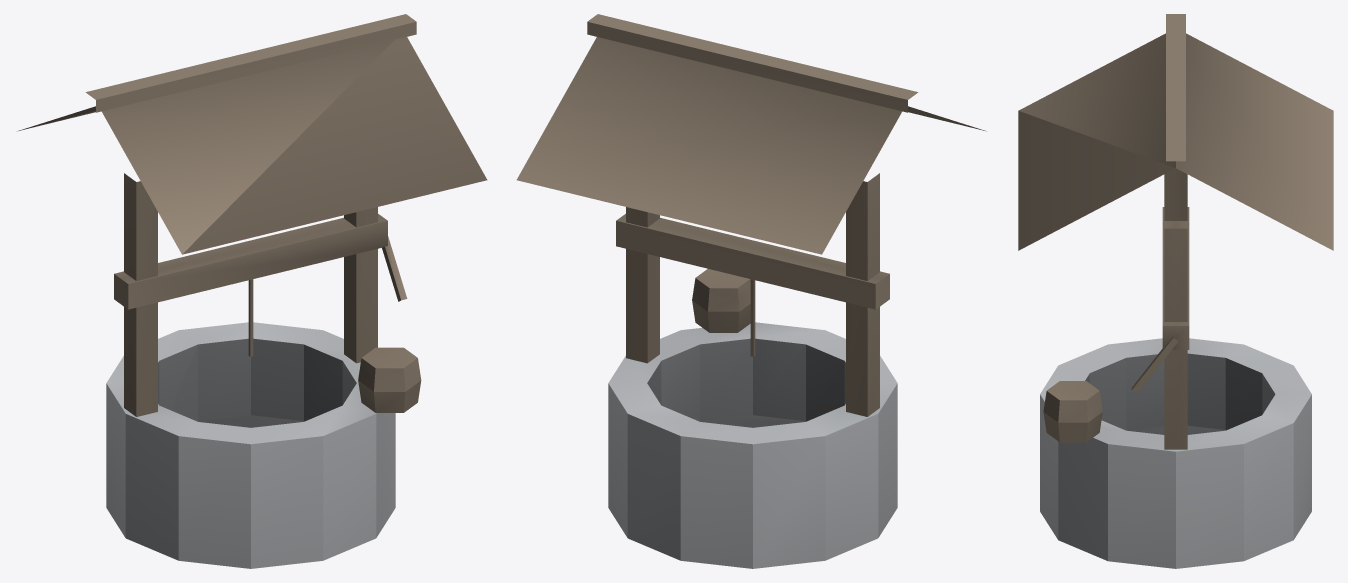
The model's file is sg_well.glb.
3 renders of one model, left to right at view 1: azimuth 30°, elevation 25°; view 2: azimuth 150°, elevation 25°; view 3: azimuth 270°, elevation 25°, orthographic. The views are drawn at different scales.
Visible parts, largest first — view 1: sg_well_SG_Joinery, sg_well_SG_Stone; view 2: sg_well_SG_Joinery, sg_well_SG_Stone; view 3: sg_well_SG_Joinery, sg_well_SG_Stone.
Part boxes in pixels (box(x1,y1,x2,y2)): sg_well_SG_Joinery: box(17, 14, 487, 416); sg_well_SG_Stone: box(106, 322, 395, 568); sg_well_SG_Joinery: box(516, 14, 986, 416); sg_well_SG_Stone: box(608, 322, 897, 568); sg_well_SG_Joinery: box(1018, 14, 1333, 449); sg_well_SG_Stone: box(1040, 338, 1311, 568).
Bounding box in the file's own units: 2.1 × 2.82 × 1.9.
